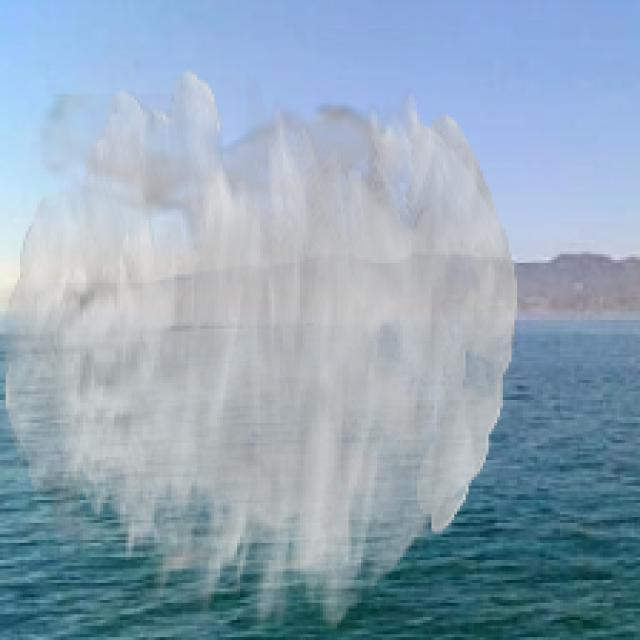Smoke: (2, 68, 518, 638)
